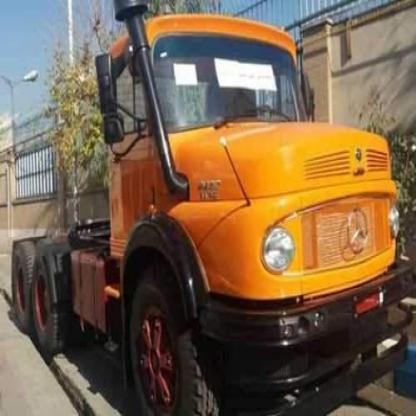Truck: (2, 4, 407, 416)
